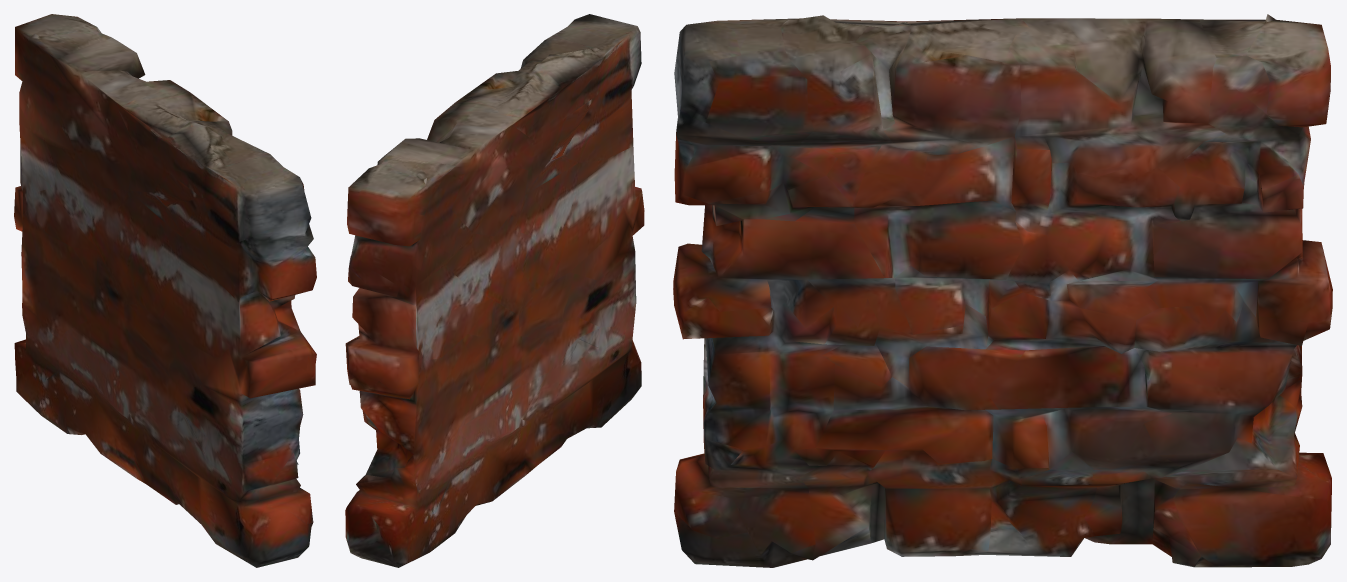
The model's file is 红砖墙面板glb.glb.
3 views of the same model, side by side, from view 1: azimuth 30°, elevation 25°; view 2: azimuth 150°, elevation 25°; view 3: azimuth 270°, elevation 25° (orthographic). The views are drawn at different scales.
Visible parts, largest first — view 1: tripo_node_8e7ac4f9-b848-4469-9177-0cda26738717; view 2: tripo_node_8e7ac4f9-b848-4469-9177-0cda26738717; view 3: tripo_node_8e7ac4f9-b848-4469-9177-0cda26738717.
Part boxes in pixels (bbox=[...]): tripo_node_8e7ac4f9-b848-4469-9177-0cda26738717: bbox=[14, 14, 316, 567]; tripo_node_8e7ac4f9-b848-4469-9177-0cda26738717: bbox=[345, 14, 644, 567]; tripo_node_8e7ac4f9-b848-4469-9177-0cda26738717: bbox=[673, 14, 1332, 567].
Size of the model in its own units: 0.1702 by 0.8768 by 0.9995.
Materials: 1 (1 with a texture image).
